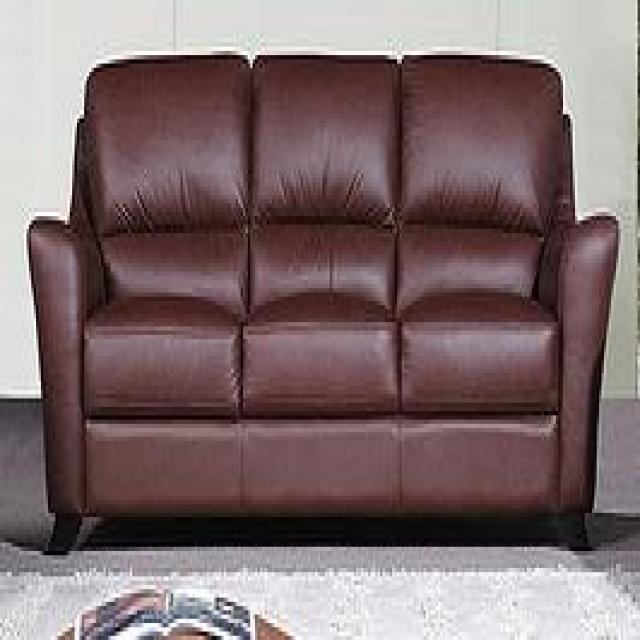sofa: (26, 52, 622, 562)
